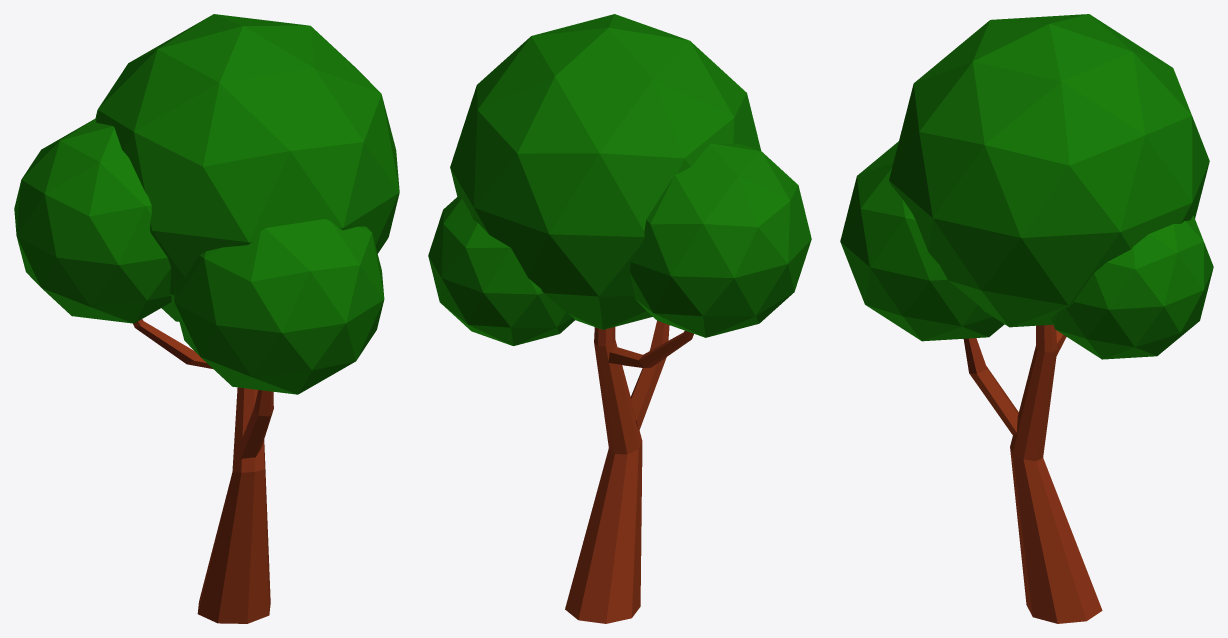
Rendered from Tree003.fbx.
3 views of the same model, side by side, from view 1: azimuth 30°, elevation 25°; view 2: azimuth 150°, elevation 25°; view 3: azimuth 270°, elevation 25° (orthographic). The views are drawn at different scales.
Visible parts, largest first — view 1: Tree 003; view 2: Tree 003; view 3: Tree 003.
Part boxes in pixels (bbox=[...]): Tree 003: bbox=[14, 14, 399, 623]; Tree 003: bbox=[428, 14, 811, 623]; Tree 003: bbox=[840, 14, 1213, 623].
Size of the model in its own units: 511 by 835 by 483.
